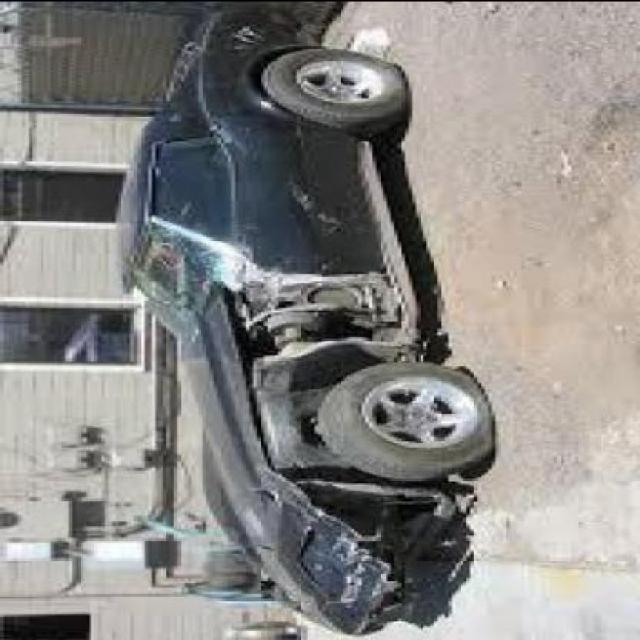damage: (146, 224, 460, 632)
